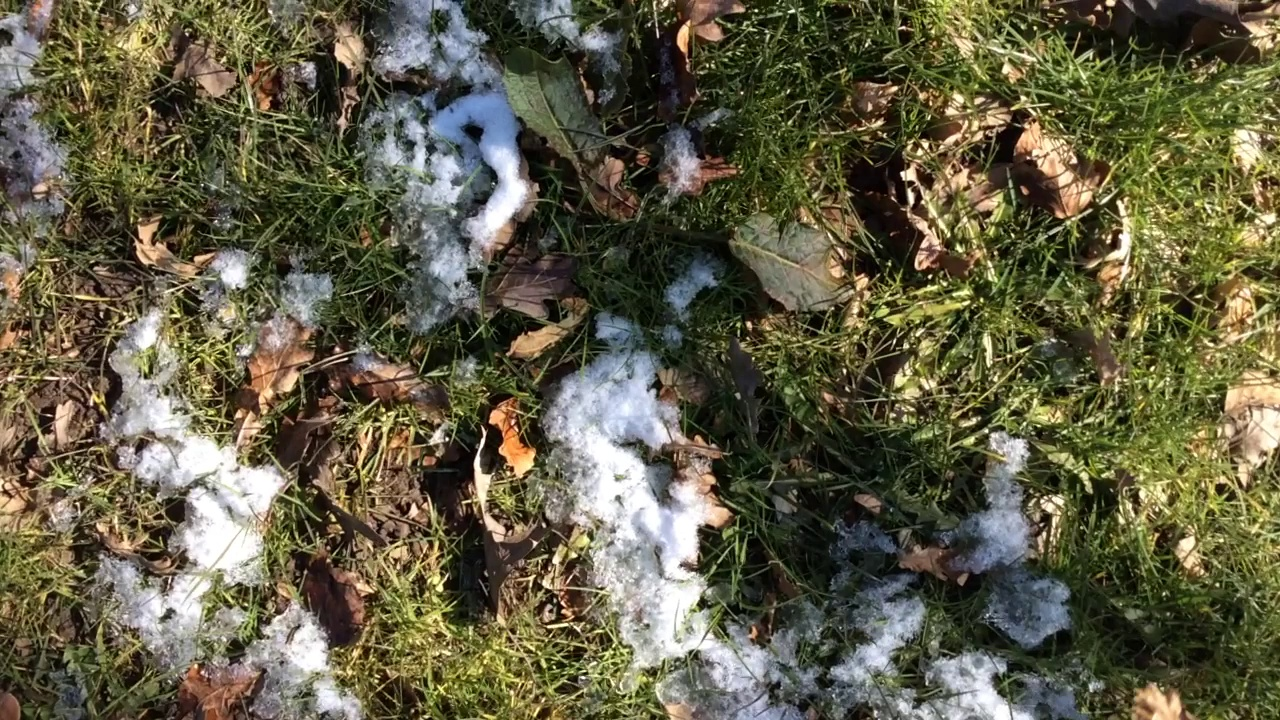root: (605, 178, 708, 258)
rumex: (498, 38, 859, 321)
